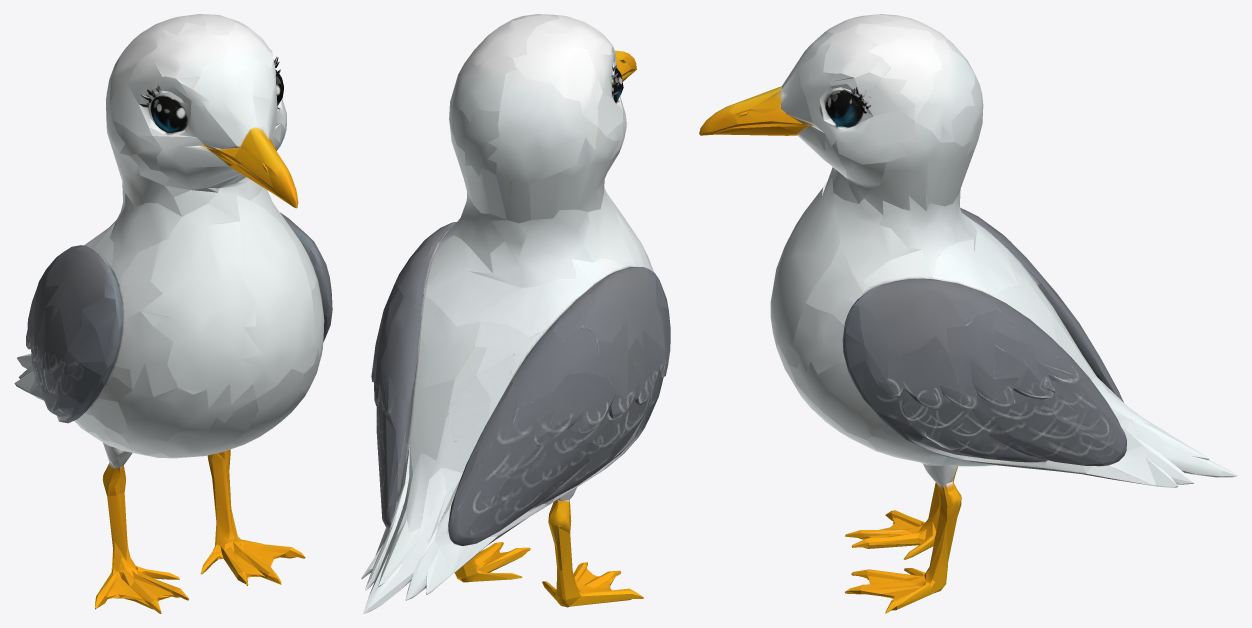
The model's file is seagull.glb.
The picture shows the model from 3 angles, left to right: view 1: azimuth 30°, elevation 25°; view 2: azimuth 150°, elevation 25°; view 3: azimuth 270°, elevation 25°; orthographic projection. The views are drawn at different scales.
Size of the model in its own units: 0.9353 by 1.9 by 1.71.
1 material, 1 textured.
